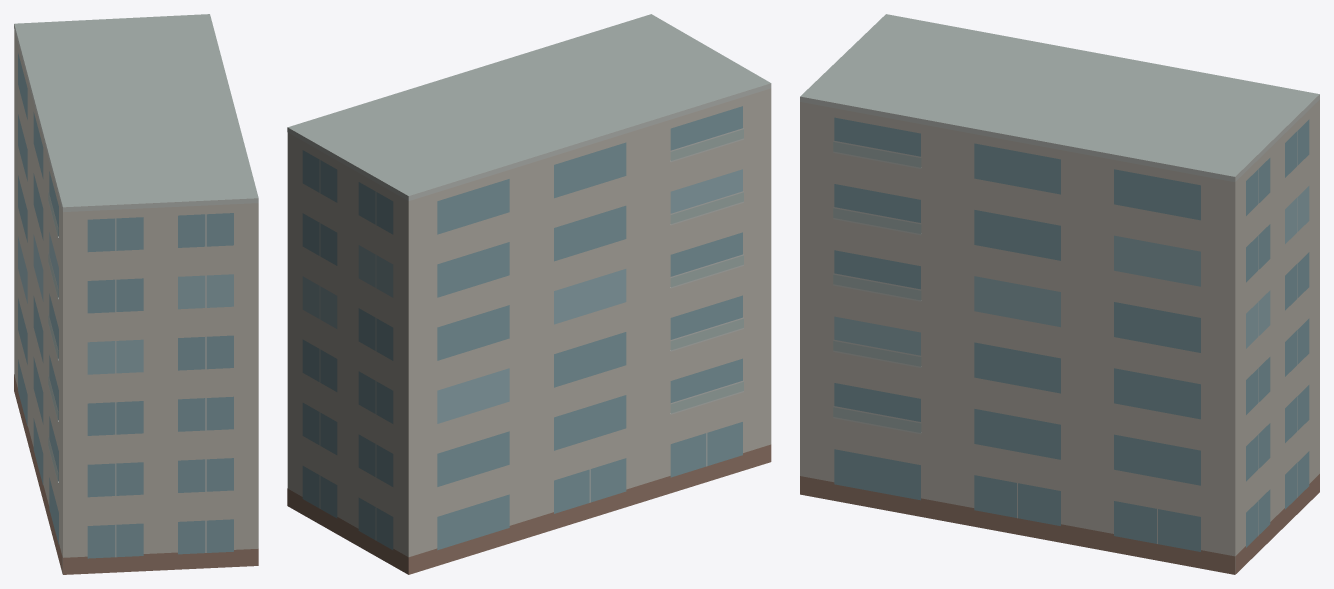
Rendered from survey-upis-32565153.glb.
3 views of the same model, side by side, from view 1: azimuth 30°, elevation 25°; view 2: azimuth 150°, elevation 25°; view 3: azimuth 270°, elevation 25° (orthographic). The views are drawn at different scales.
Visible parts, largest first — view 1: survey-upis-32565153.tmp; view 2: survey-upis-32565153.tmp; view 3: survey-upis-32565153.tmp.
Part boxes in pixels (x1,y1,x2,y2): survey-upis-32565153.tmp: (14,14,258,574); survey-upis-32565153.tmp: (287,14,771,574); survey-upis-32565153.tmp: (800,14,1319,574).
Bounding box in the file's own units: 16.08 × 18.3 × 21.67.
